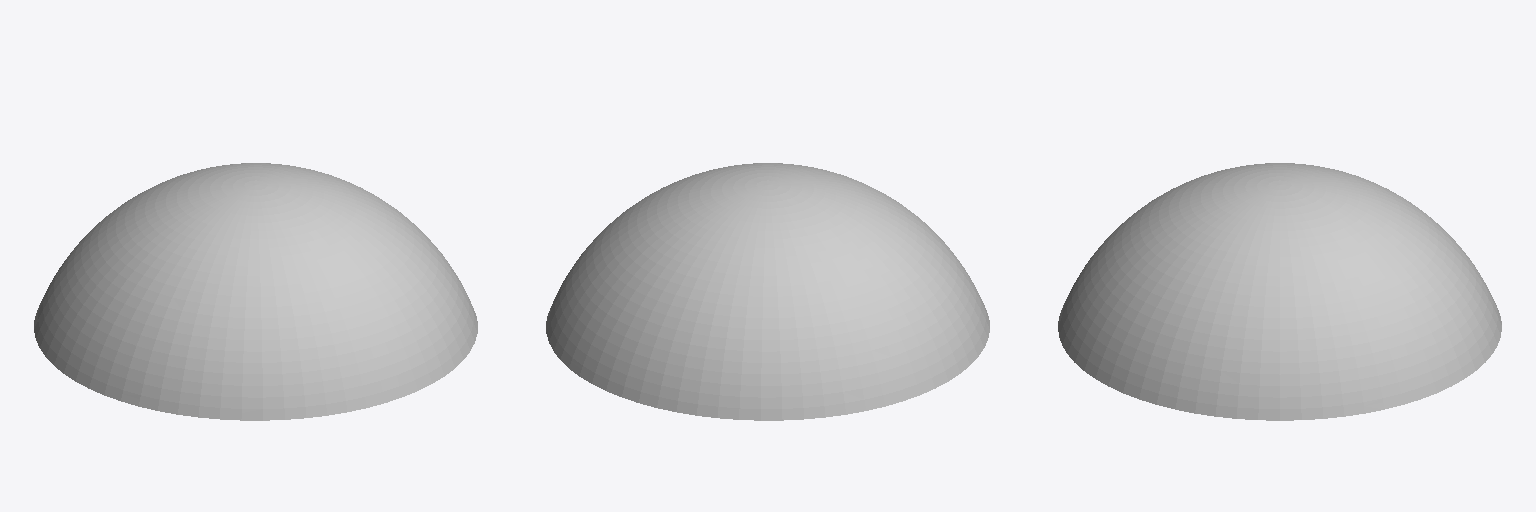
Rendered from ufo_sphere_r_15cm_h_9.5cm.obj.
3 renders of one model, left to right at view 1: azimuth 30°, elevation 25°; view 2: azimuth 150°, elevation 25°; view 3: azimuth 270°, elevation 25°, orthographic.
Parts seen in each view (by area): view 1: Sphere; view 2: Sphere; view 3: Sphere.
Part boxes in pixels (bbox=[...]): Sphere: bbox=[34, 163, 477, 420]; Sphere: bbox=[546, 163, 989, 420]; Sphere: bbox=[1058, 163, 1501, 420].
Size of the model in its own units: 0.2825 by 0.0995 by 0.2825.